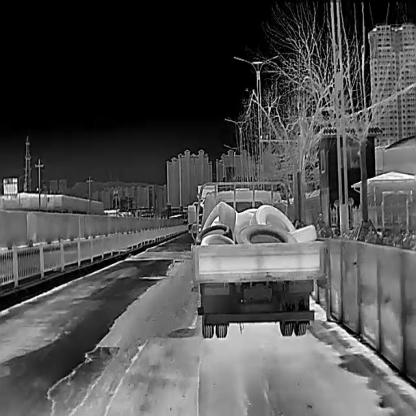truck: (190, 182, 325, 338)
